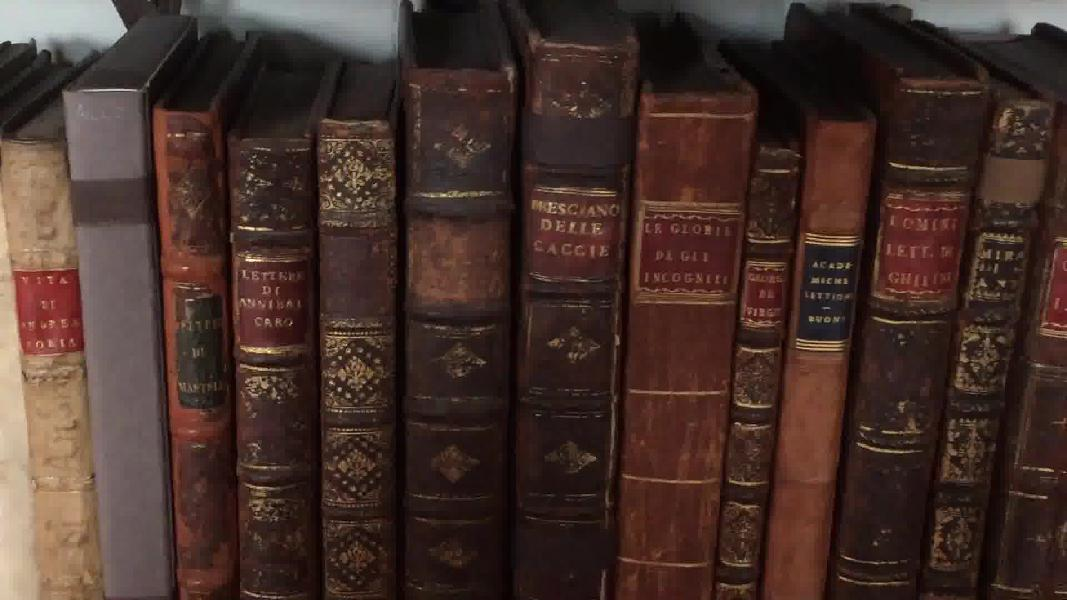Aa6-26: (4, 117, 106, 600)
Aa6-27: (63, 92, 177, 600)
Aa6-28: (140, 107, 242, 593)
Aa6-29: (221, 131, 331, 598)
Aa6-30: (315, 111, 406, 597)
Aa6-31: (405, 65, 501, 600)
Aa6-32: (509, 28, 618, 600)
Aa6-33: (632, 84, 719, 592)
Aa6-34: (721, 151, 790, 590)
Aa6-35: (758, 94, 872, 600)
Aa6-36: (820, 81, 964, 600)
